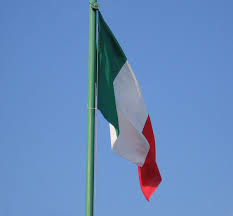Flag: (94, 7, 163, 201)
